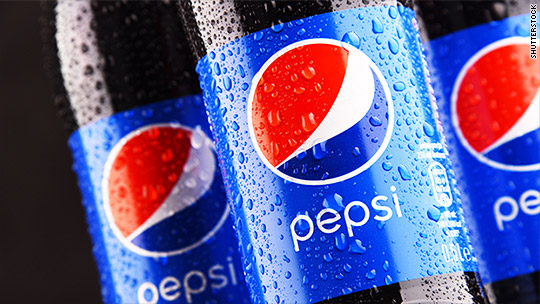pepsi: (240, 36, 393, 183), (240, 46, 393, 183), (96, 121, 228, 257), (100, 121, 228, 257), (96, 126, 228, 257), (453, 34, 538, 170), (453, 39, 538, 170)
